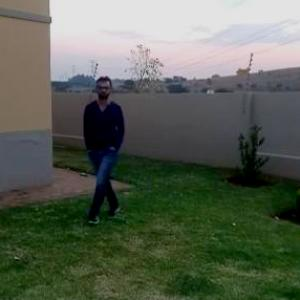follow: (79, 73, 126, 212)
